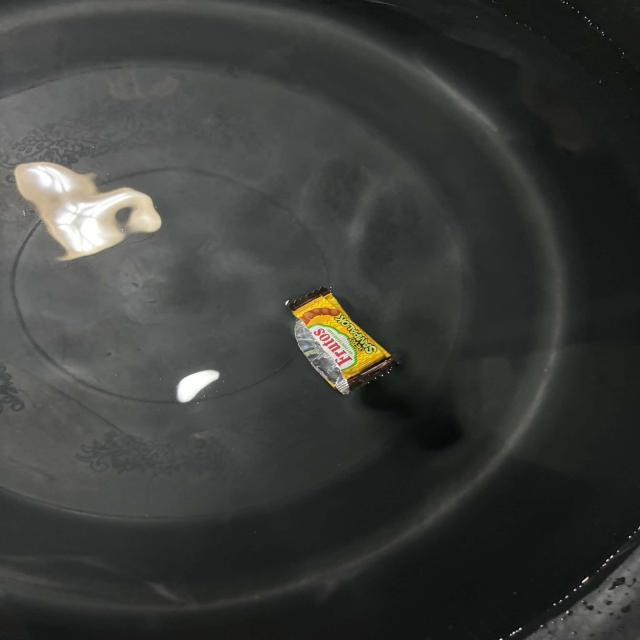Plastic Wrapper: (286, 288, 395, 394)
